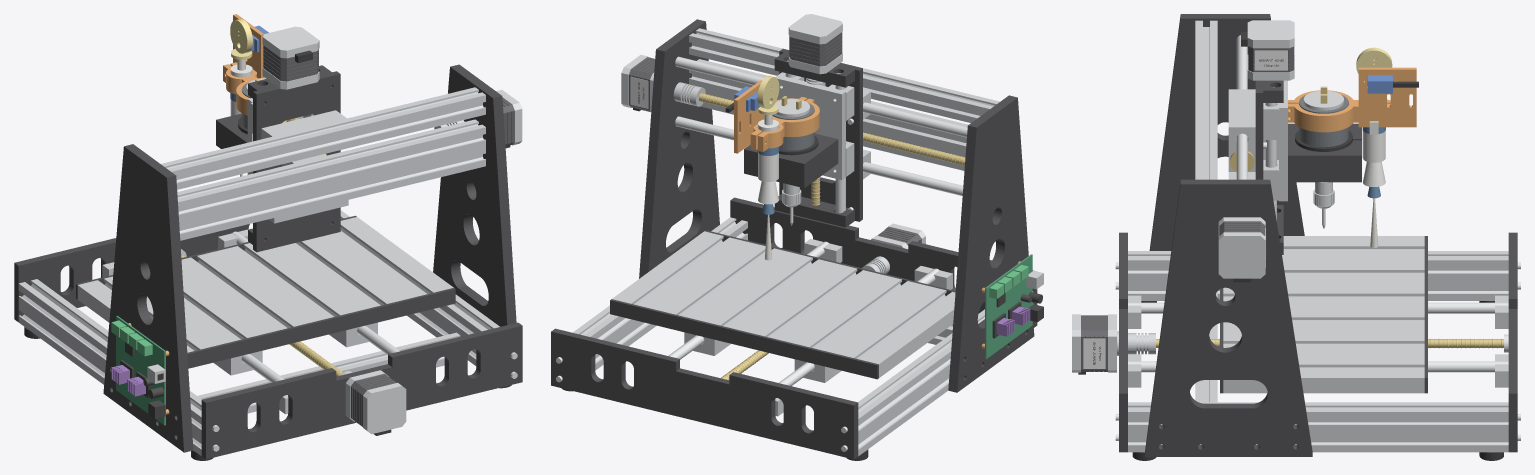
File: cnc3018.glb
3 views of the same model, side by side, from view 1: azimuth 30°, elevation 25°; view 2: azimuth 150°, elevation 25°; view 3: azimuth 270°, elevation 25° (orthographic). The views are drawn at different scales.
Parts seen in each view (by area): view 1: cnc_base__black, cnc_base__alu, cnc_y_bed__alu, cnc_x_carriage__black, cnc_y_bed__black, cnc_base__cap, cnc_x_carriage__cap, cnc_base__pcb, cnc_x_carriage__alu, cnc_base__stepper, cnc_z__mount, cnc_base__steel (+6 smaller); view 2: cnc_base__black, cnc_y_bed__alu, cnc_base__alu, cnc_base__steel, cnc_y_bed__black, cnc_x_carriage__black, cnc_z__alu, cnc_z__mount, cnc_z__black, cnc_base__pcb, cnc_x_carriage__cap, cnc_base__brass (+11 smaller); view 3: cnc_base__black, cnc_base__alu, cnc_y_bed__alu, cnc_z__mount, cnc_base__steel, cnc_base__cap, cnc_z__black, cnc_z__alu, cnc_x_carriage__alu, cnc_x_carriage__cap, cnc_x_carriage__black, cnc_base__stepper (+13 smaller).
Part boxes in pixels (x1,y1,x2,y2): cnc_base__black: [14, 64, 522, 459]; cnc_base__alu: [18, 87, 499, 455]; cnc_y_bed__alu: [77, 217, 453, 375]; cnc_x_carriage__black: [248, 65, 340, 252]; cnc_y_bed__black: [76, 215, 455, 368]; cnc_base__cap: [345, 90, 522, 434]; cnc_x_carriage__cap: [262, 26, 319, 89]; cnc_base__pcb: [116, 315, 165, 425]; cnc_x_carriage__alu: [261, 110, 348, 223]; cnc_base__stepper: [350, 98, 514, 426]; cnc_z__mount: [223, 14, 265, 115]; cnc_base__steel: [181, 231, 517, 451]; cnc_base__black: [551, 19, 1037, 459]; cnc_y_bed__alu: [612, 231, 955, 382]; cnc_base__alu: [573, 28, 1033, 456]; cnc_base__steel: [556, 56, 967, 451]; cnc_y_bed__black: [610, 230, 955, 379]; cnc_x_carriage__black: [774, 48, 862, 227]; cnc_z__alu: [775, 72, 854, 179]; cnc_z__mount: [734, 80, 819, 153]; cnc_z__black: [744, 133, 838, 188]; cnc_base__pcb: [985, 254, 1032, 359]; cnc_x_carriage__cap: [788, 14, 842, 74]; cnc_base__brass: [699, 93, 965, 379]; cnc_base__black: [1119, 14, 1517, 456]; cnc_base__alu: [1117, 20, 1508, 452]; cnc_y_bed__alu: [1223, 236, 1424, 393]; cnc_z__mount: [1288, 67, 1416, 132]; cnc_base__steel: [1115, 35, 1520, 440]; cnc_base__cap: [1072, 217, 1265, 372]; cnc_z__black: [1288, 123, 1361, 182]; cnc_z__alu: [1263, 80, 1287, 201]; cnc_x_carriage__alu: [1228, 89, 1255, 179]; cnc_x_carriage__cap: [1247, 20, 1294, 80]; cnc_x_carriage__black: [1255, 80, 1283, 254]; cnc_base__stepper: [1081, 221, 1264, 371].
Size of the model in its own units: 425 by 345 by 401.
